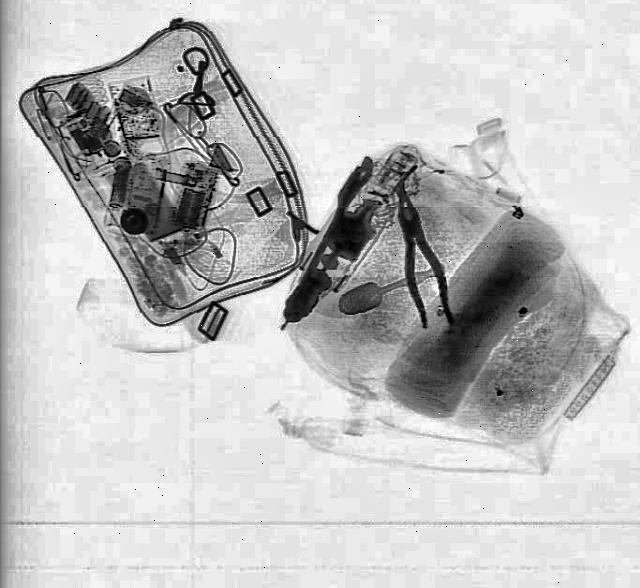Pliers: (380, 181, 458, 331)
